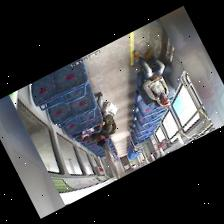person: (133, 47, 169, 106), (88, 112, 115, 146)
